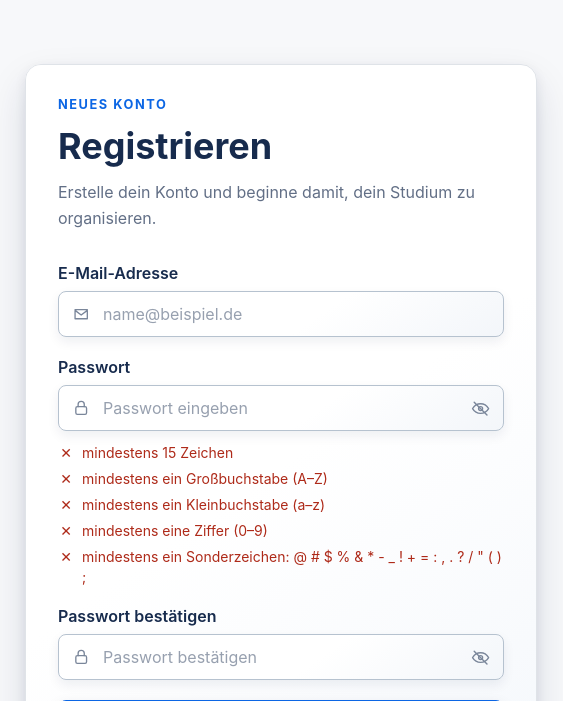
Test: RegisterView › registers a user with valid form data
In the field with id "email": point(281, 314) [58,291,504,337], type "student@example.com"
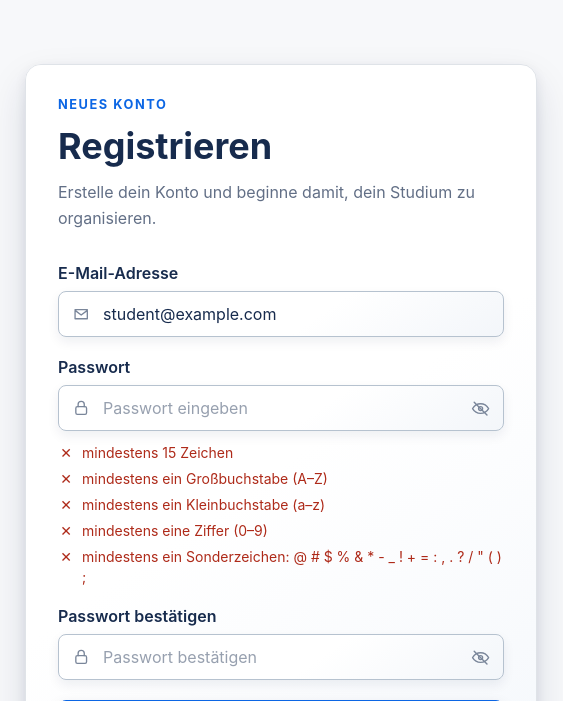
In the password field labelled "Passwort": point(281, 408) [58,385,504,431], type "Registration-Test-2026"
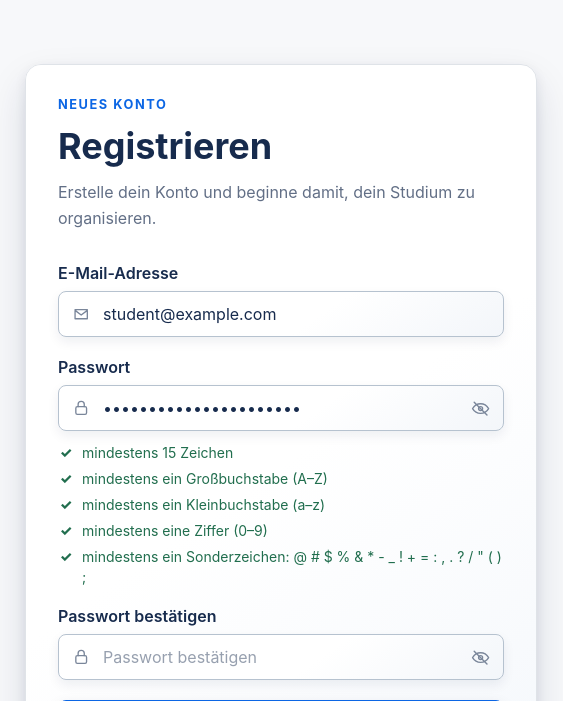
In the password field with placeholder "Passwort bestätigen": point(281, 657) [58,634,504,680], type "Registration-Test-2026"
(page scrolled)
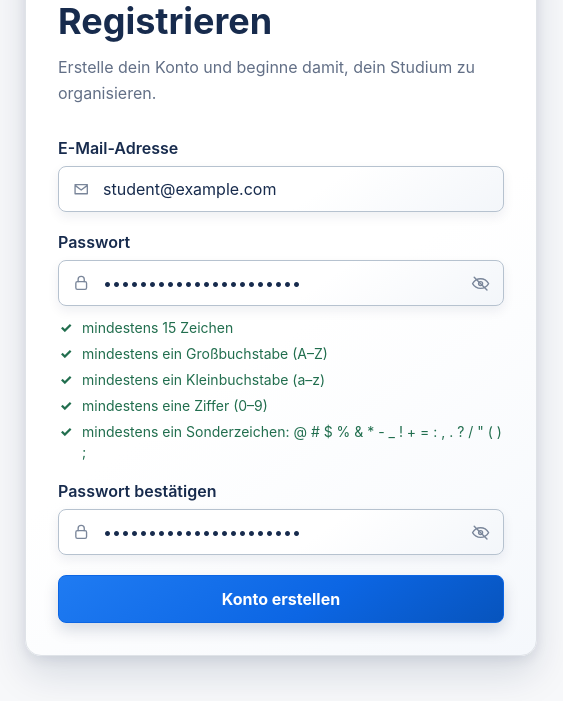
Submit the form, box [58,138,504,623]
(page scrolled)
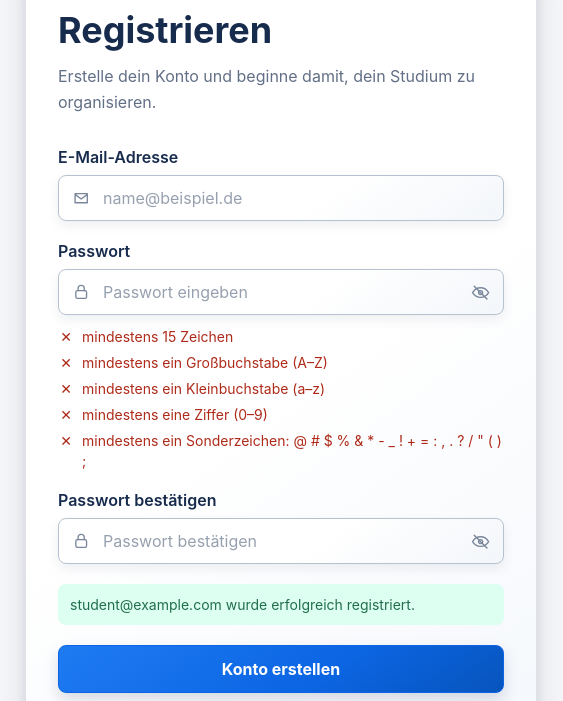
Now the text "student@example.com wurde erfolgreich registriert." is shown, box [58,584,504,625]
